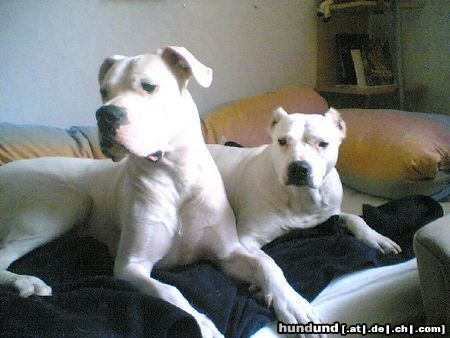dogo_argentino: (0, 45, 324, 338), (205, 105, 401, 301)
